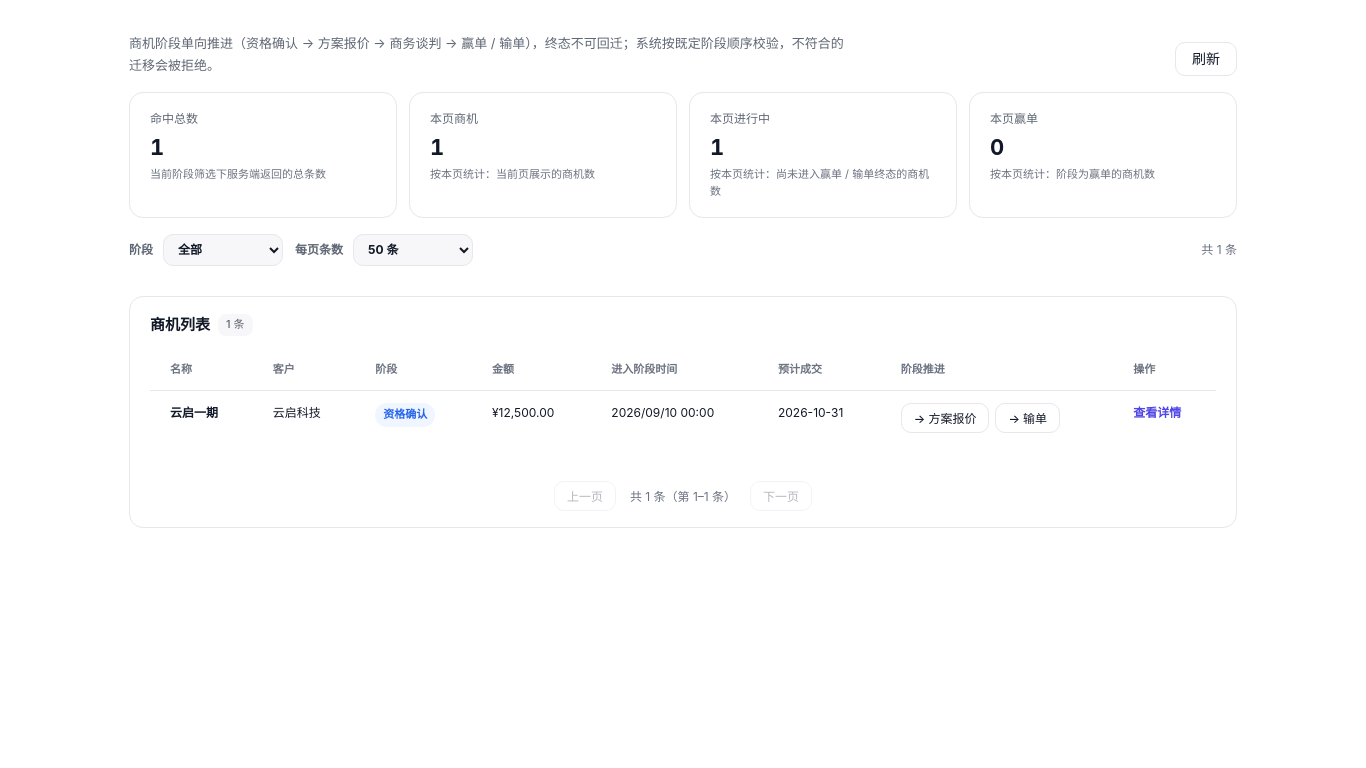
Test case: CrmOpportunitiesPage › reports a 409 conflict, asks for a refresh and reloads the list
Click the button with aria-label "将「云启一期」推进到 方案报价" at (945, 418), box [901,403,990,433]
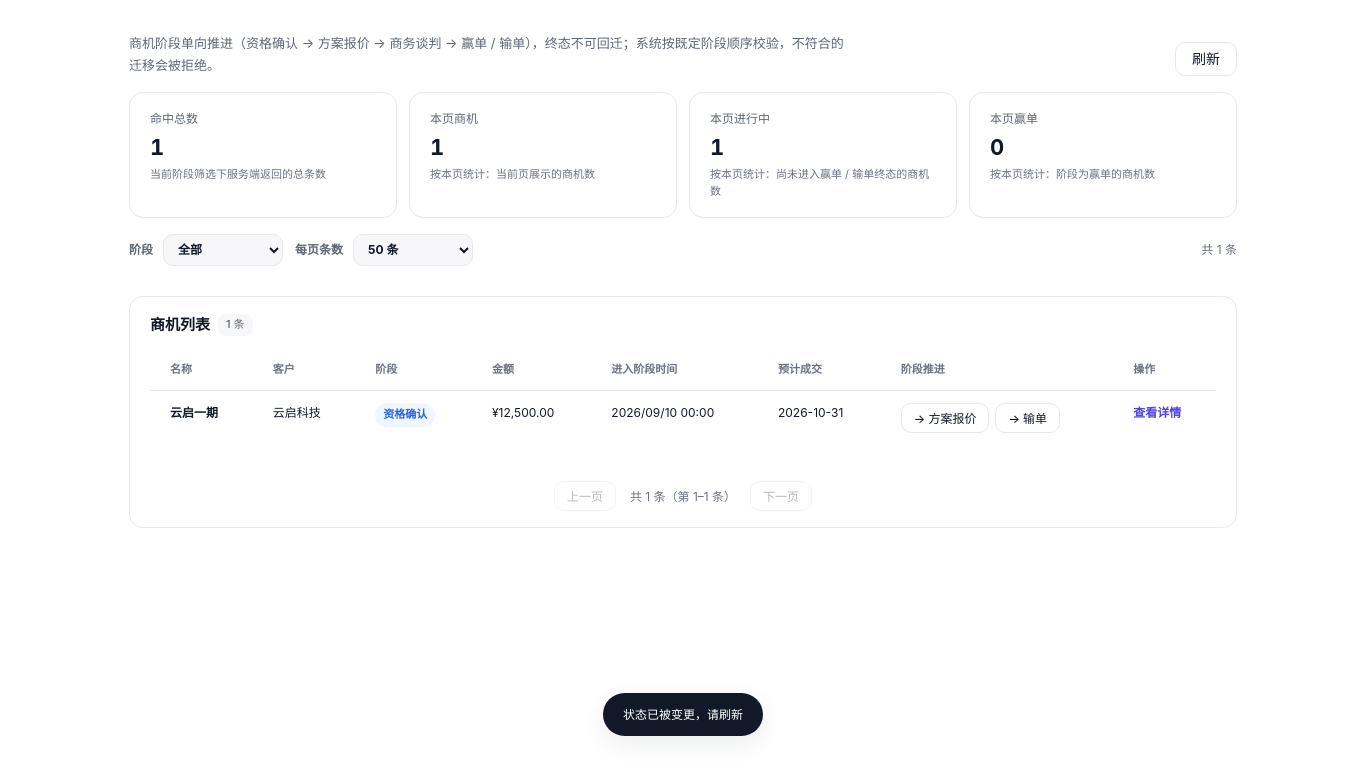
expect the text "状态已被变更，请刷新" is shown: met, box [623,705,743,724]
